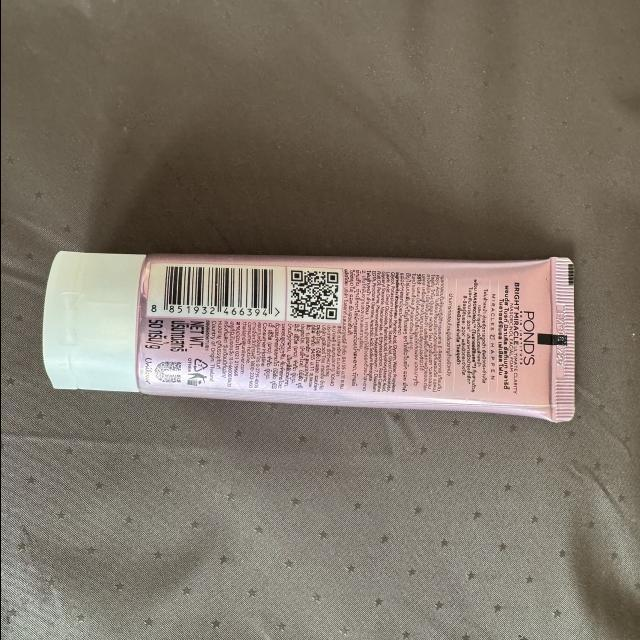Squeeze Tube: (30, 234, 611, 438)
